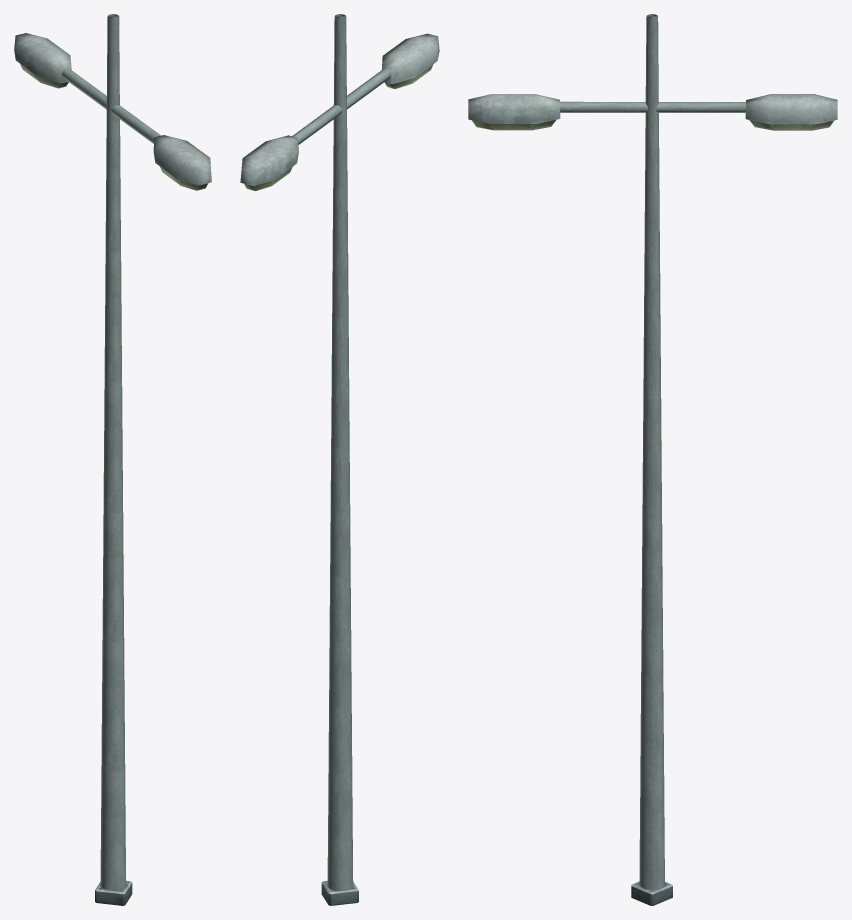
File: Sun_0002_Retail_Park.fbx
3 views of the same model, side by side, from view 1: azimuth 30°, elevation 25°; view 2: azimuth 150°, elevation 25°; view 3: azimuth 270°, elevation 25° (orthographic).
Parts seen in each view (by area): view 1: Sun_0002_Retail_Park; view 2: Sun_0002_Retail_Park; view 3: Sun_0002_Retail_Park.
Boxes of the visible parts, x1,y1,x2,y2 form: Sun_0002_Retail_Park: (14, 14, 211, 905); Sun_0002_Retail_Park: (240, 14, 439, 905); Sun_0002_Retail_Park: (468, 14, 837, 905).
Bounding box in the file's own units: 34.25 × 798 × 303.
